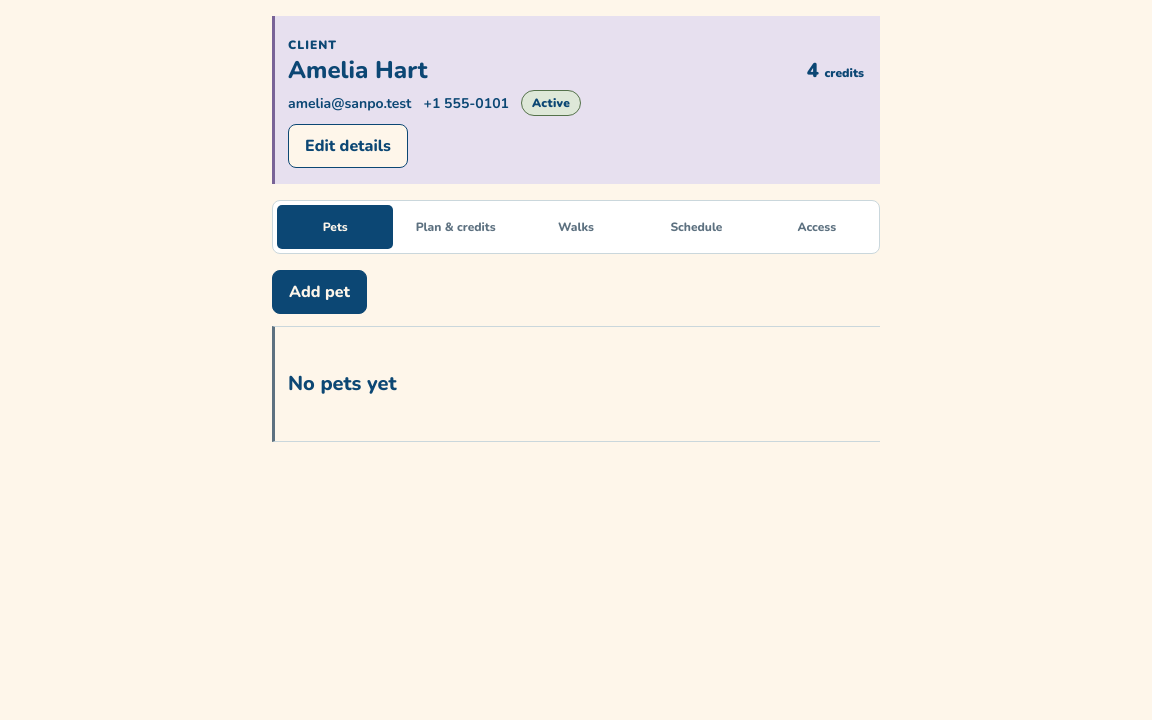
it: ClientDetail edit affordances › opens the client sheet with the record's current values
This screenshot has width=1152, height=720.
Expected: the heading "Amelia Hart" is shown, [288,57,427,85]
Click the button "Edit details": x=348, y=146 [288,124,408,168]
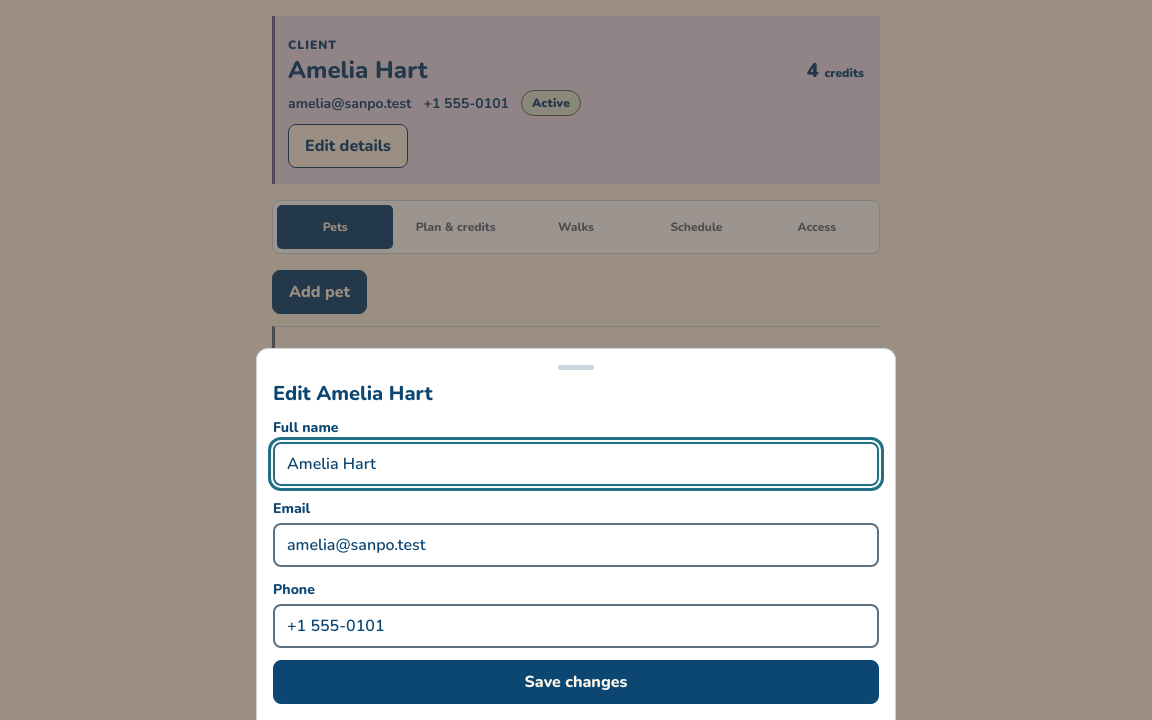
Expected: the dialog "Edit Amelia Hart" is shown, [256,348,896,719]
Expected: the field labelled "Email" holds "amelia@sanpo.test", [273,523,879,567]
